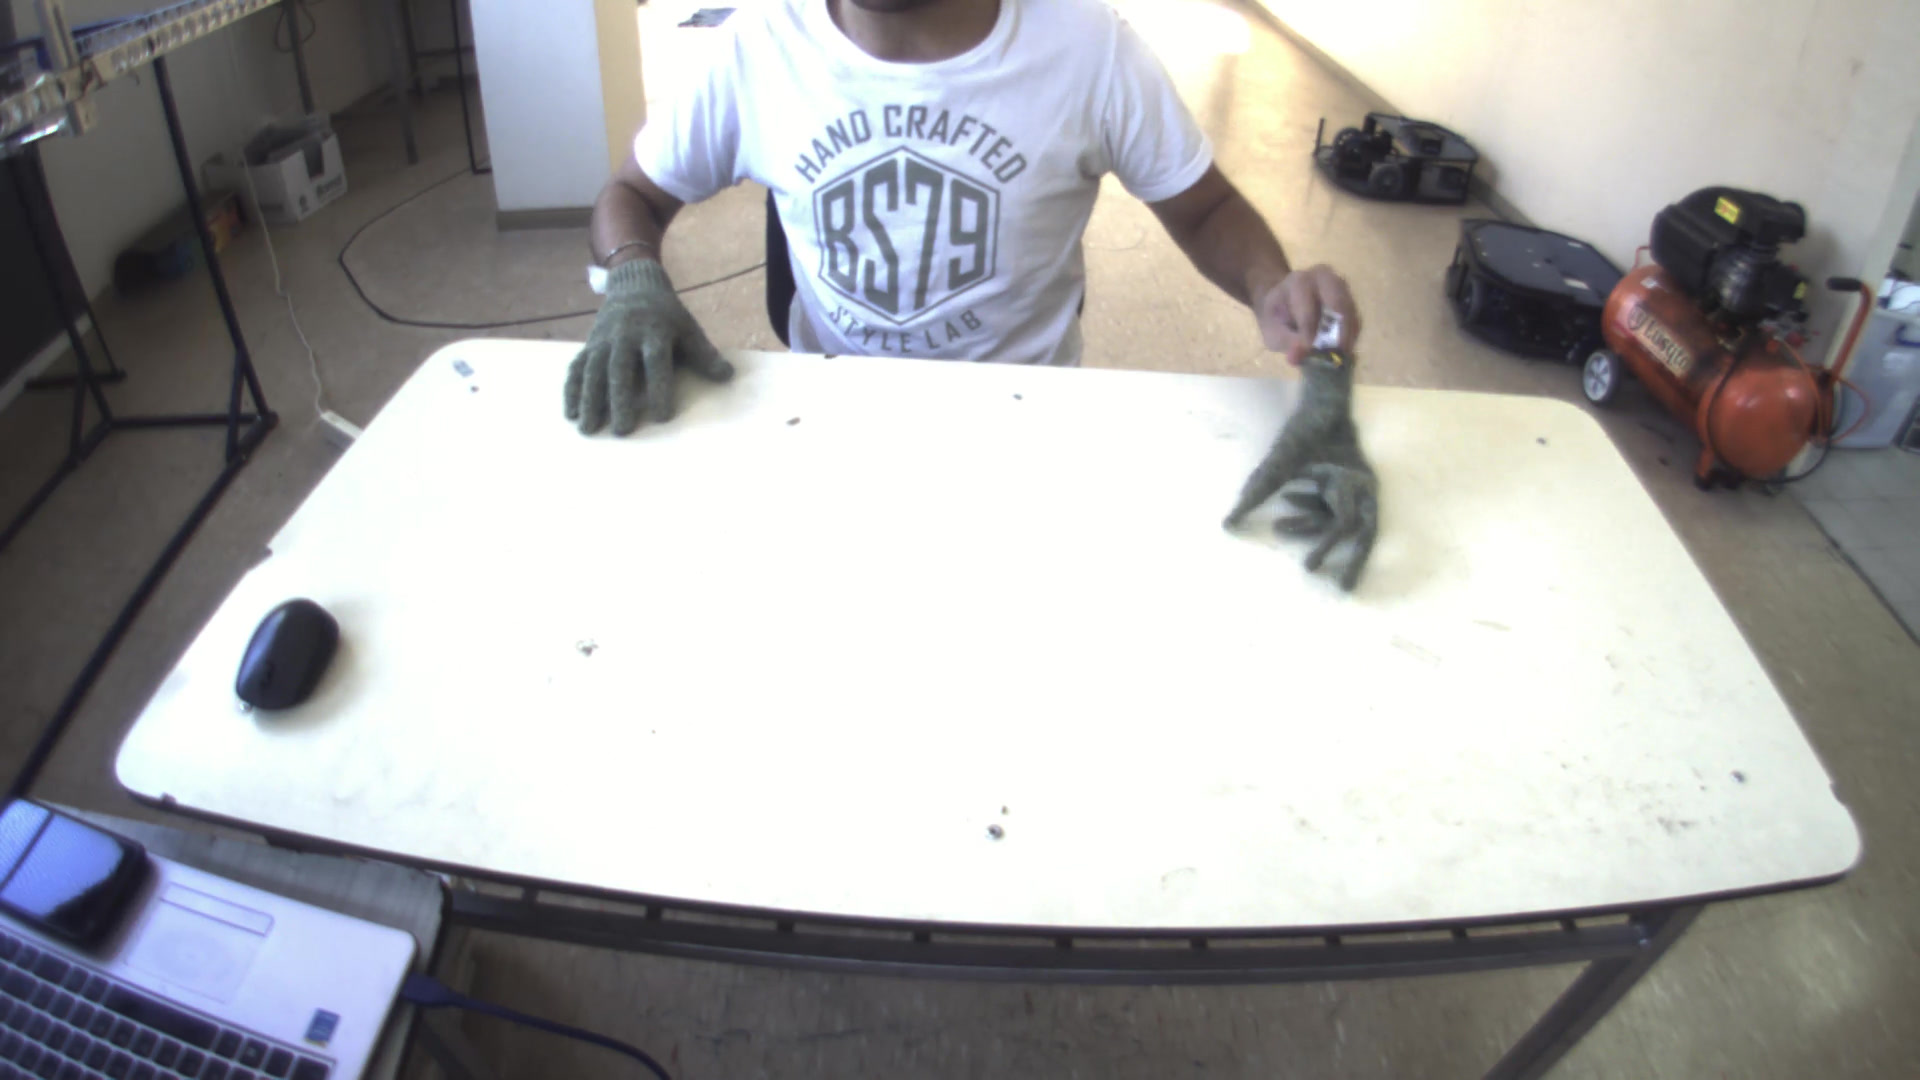hand: (547, 235, 735, 439), (1249, 253, 1375, 367)
